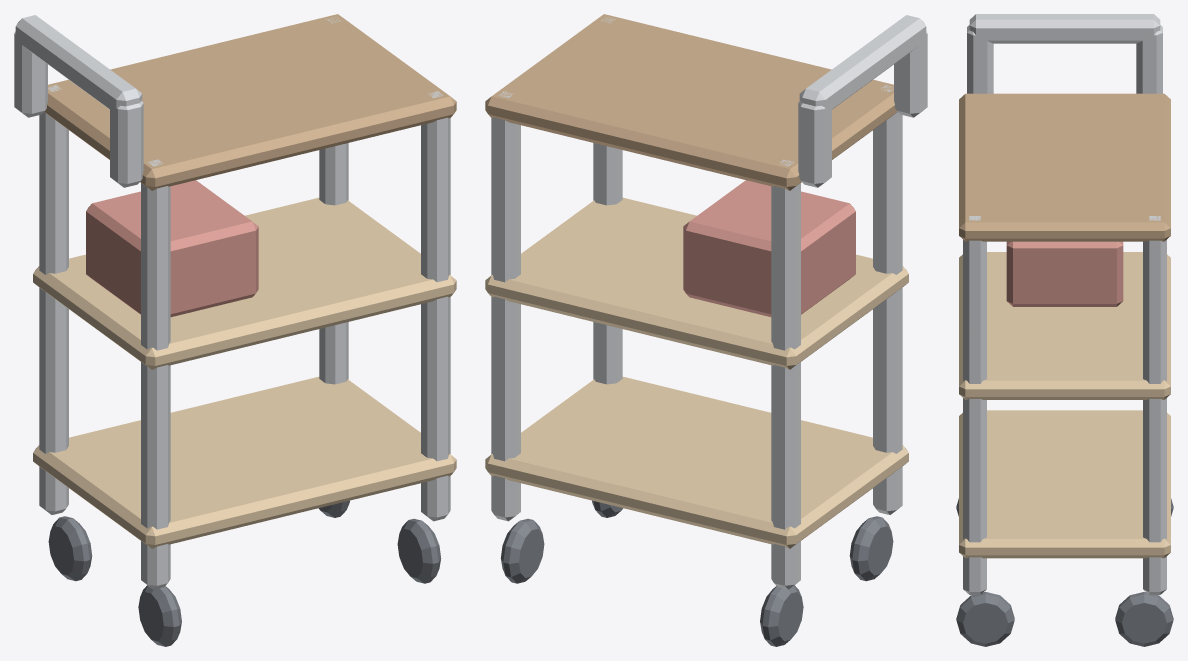
The model's file is RollingKitchenCart.glb.
3 views of the same model, side by side, from view 1: azimuth 30°, elevation 25°; view 2: azimuth 150°, elevation 25°; view 3: azimuth 270°, elevation 25° (orthographic). The views are drawn at different scales.
Visible parts, largest first — view 1: SpaceSaver_RollingKitchenCart; view 2: SpaceSaver_RollingKitchenCart; view 3: SpaceSaver_RollingKitchenCart.
Boxes of the visible parts, x1,y1,x2,y2 form: SpaceSaver_RollingKitchenCart: (14, 14, 456, 646); SpaceSaver_RollingKitchenCart: (485, 14, 927, 646); SpaceSaver_RollingKitchenCart: (956, 14, 1173, 646).
Size of the model in its own units: 0.645 by 1.04 by 0.41.
